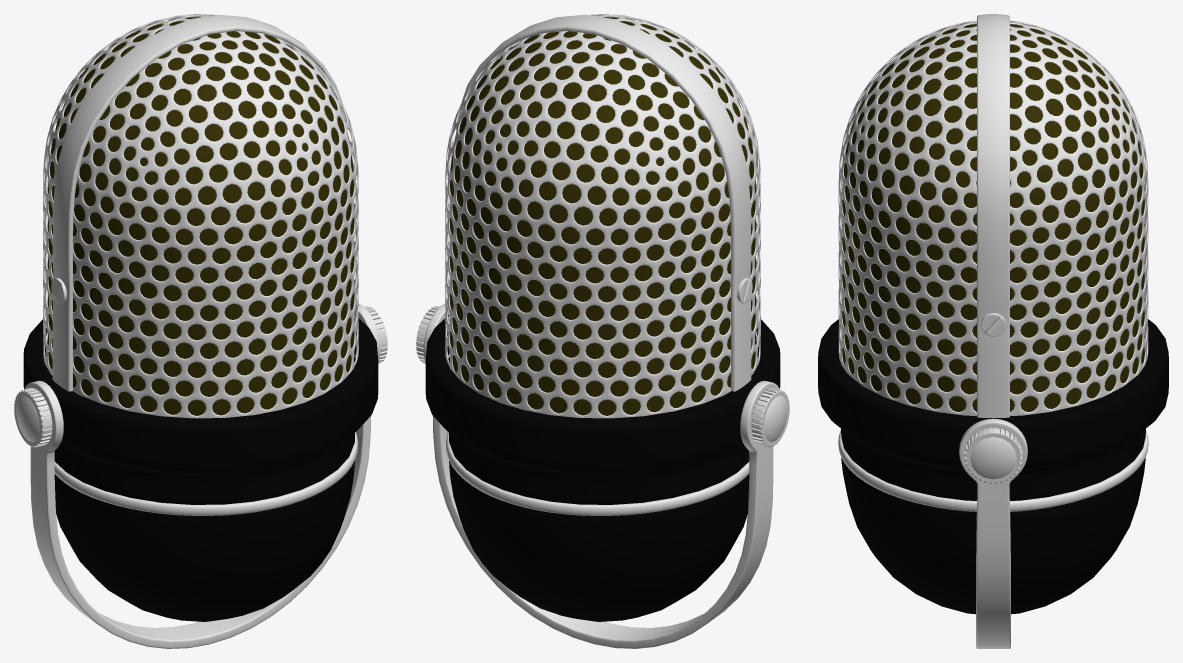
The model's file is vintage_microphone.glb.
3 renders of one model, left to right at view 1: azimuth 30°, elevation 25°; view 2: azimuth 150°, elevation 25°; view 3: azimuth 270°, elevation 25°, orthographic.
Visible parts, largest first — view 1: grille_7, body_1, Object_4, head-basket_4, stand_2, ring_5, screw-stand-r_3; view 2: grille_7, body_1, Object_4, head-basket_4, stand_2, ring_5, screw-stand-r_3; view 3: grille_7, body_1, Object_4, head-basket_4, stand_2, ring_5, screw-stand-l_8.
Part boxes in pixels (box(x1,y1,x2,y2)): grille_7: box(43, 14, 358, 418); body_1: box(23, 315, 378, 621); Object_4: box(48, 17, 353, 415); head-basket_4: box(52, 15, 344, 391); stand_2: box(24, 304, 380, 648); ring_5: box(54, 432, 357, 515); screw-stand-r_3: box(14, 388, 52, 447); grille_7: box(445, 14, 760, 418); body_1: box(425, 315, 780, 621); Object_4: box(450, 17, 755, 415); head-basket_4: box(459, 15, 751, 391); stand_2: box(423, 304, 779, 648); ring_5: box(446, 432, 749, 515); screw-stand-r_3: box(751, 388, 789, 447); grille_7: box(838, 20, 1148, 415); body_1: box(818, 319, 1168, 614); Object_4: box(842, 24, 1144, 411); head-basket_4: box(977, 14, 1009, 417); stand_2: box(959, 418, 1027, 648); ring_5: box(838, 430, 1148, 511); screw-stand-l_8: box(964, 427, 1022, 483).
Bounding box in the file's own units: 2.52 × 4.19 × 2.21.
